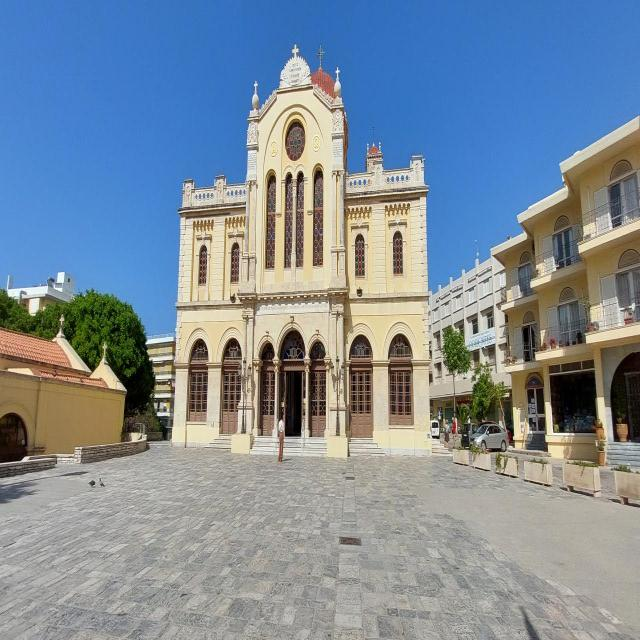Agios Minas: (172, 21, 432, 473)
